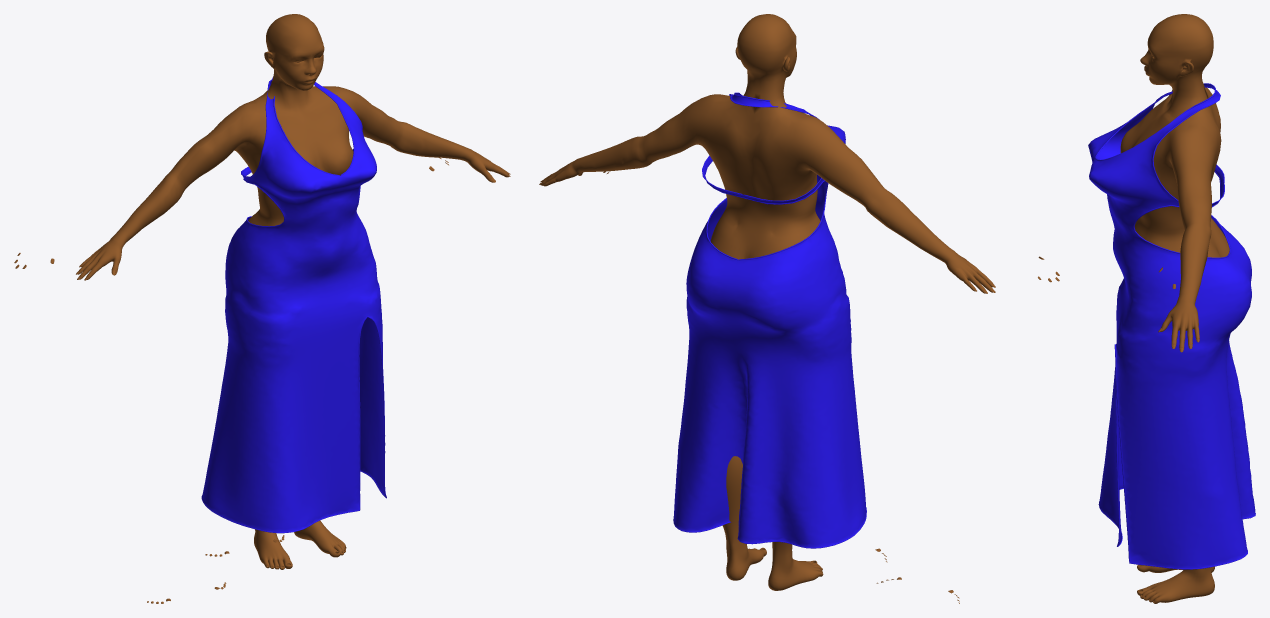
Rendered from dress9.glb.
The picture shows the model from 3 angles, left to right: view 1: azimuth 30°, elevation 25°; view 2: azimuth 150°, elevation 25°; view 3: azimuth 270°, elevation 25°; orthographic projection. The views are drawn at different scales.
Parts seen in each view (by area): view 1: EveningDress, Body.003; view 2: EveningDress, Body.003; view 3: EveningDress, Body.003.
Part boxes in pixels (bbox=[...]): EveningDress: bbox=[201, 77, 386, 533]; Body.003: bbox=[78, 14, 509, 569]; EveningDress: bbox=[673, 92, 866, 548]; Body.003: bbox=[540, 14, 992, 590]; EveningDress: bbox=[1088, 83, 1255, 569]; Body.003: bbox=[1120, 14, 1229, 603].
Size of the model in its own units: 1.8 by 1.85 by 0.4957.
